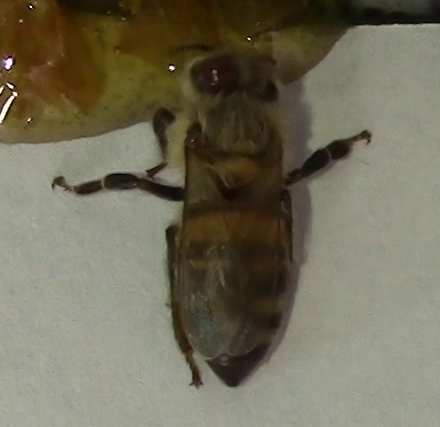Varroa destructor: (191, 52, 248, 97)
